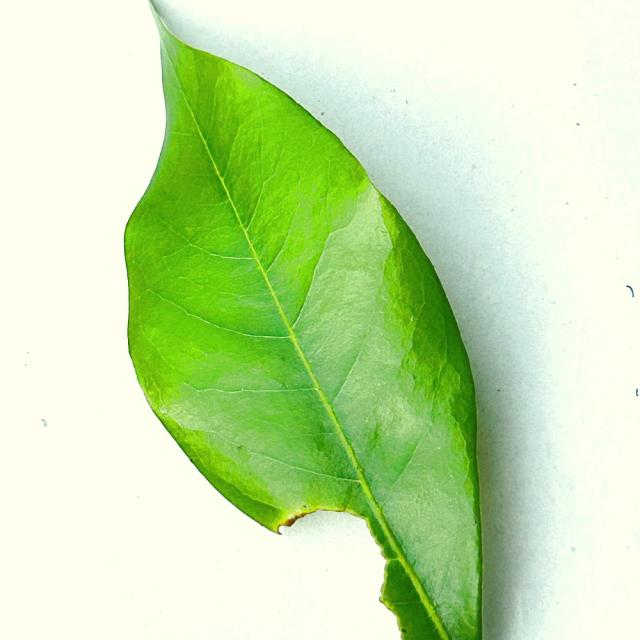Deficiency Leaf: (286, 513, 396, 639)
Lychee: (122, 8, 483, 639)
